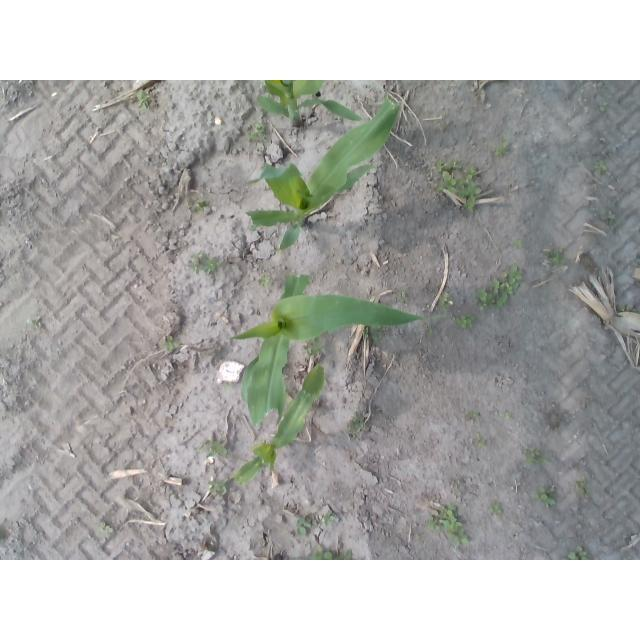Maize: (232, 276, 424, 427), (244, 98, 401, 251), (235, 365, 326, 489), (254, 81, 362, 128)
Weeds: (476, 265, 524, 309), (197, 430, 227, 458), (458, 182, 482, 210), (446, 519, 469, 546), (433, 172, 459, 194), (190, 254, 218, 274), (346, 413, 368, 434), (536, 485, 556, 508), (525, 447, 546, 465), (208, 478, 229, 494), (310, 548, 334, 560), (568, 546, 588, 560), (259, 271, 274, 289), (323, 508, 336, 527), (295, 518, 310, 534), (490, 144, 510, 156), (437, 162, 463, 171), (440, 505, 456, 519), (161, 334, 176, 348), (303, 343, 318, 357), (139, 91, 150, 110), (457, 315, 476, 326), (574, 480, 587, 496), (548, 249, 562, 263), (99, 524, 114, 536), (438, 294, 451, 307), (193, 200, 207, 212), (490, 502, 503, 514), (365, 327, 378, 339), (246, 129, 258, 142), (27, 317, 41, 328), (477, 433, 488, 447), (465, 411, 480, 421), (428, 518, 439, 531), (508, 238, 522, 248), (315, 337, 326, 347), (467, 169, 477, 180), (255, 121, 265, 132), (602, 209, 613, 219), (596, 160, 606, 169), (504, 412, 513, 419), (427, 325, 434, 332), (453, 483, 460, 489), (399, 291, 405, 297)
